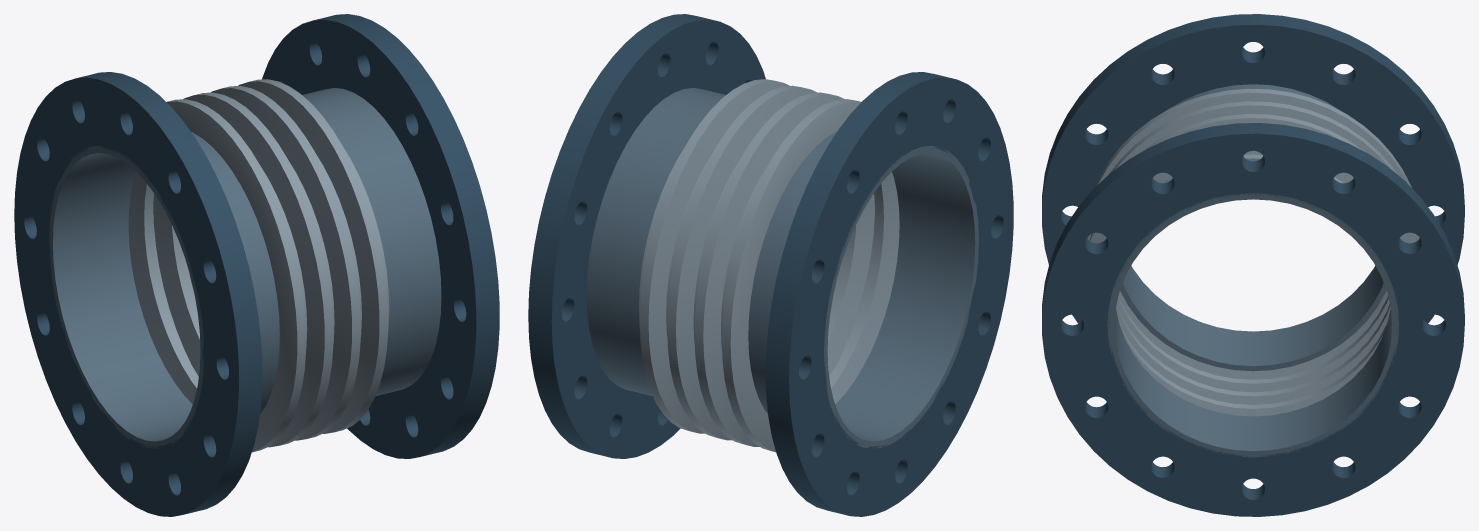
File: flan-dn250-L265-D273-f.glb
The picture shows the model from 3 angles, left to right: view 1: azimuth 30°, elevation 25°; view 2: azimuth 150°, elevation 25°; view 3: azimuth 270°, elevation 25°; orthographic projection. The views are drawn at different scales.
Visible parts, largest first — view 1: prokladka_silfon_1, homut_flanec_1, homut_flanec_2, patrubok_1, patrubok_2; view 2: prokladka_silfon_1, homut_flanec_1, homut_flanec_2, patrubok_1, patrubok_2; view 3: homut_flanec_2, homut_flanec_1, prokladka_silfon_1, patrubok_2, patrubok_1.
Part boxes in pixels (bbox=[...]): prokladka_silfon_1: bbox=[128, 79, 389, 452]; homut_flanec_1: bbox=[14, 72, 262, 516]; homut_flanec_2: bbox=[262, 14, 499, 458]; patrubok_1: bbox=[49, 132, 279, 448]; patrubok_2: bbox=[302, 88, 441, 395]; prokladka_silfon_1: bbox=[638, 79, 899, 452]; homut_flanec_1: bbox=[765, 72, 1013, 516]; homut_flanec_2: bbox=[528, 14, 765, 458]; patrubok_1: bbox=[748, 132, 978, 448]; patrubok_2: bbox=[586, 88, 725, 395]; homut_flanec_2: bbox=[1042, 123, 1464, 516]; homut_flanec_1: bbox=[1042, 14, 1464, 323]; prokladka_silfon_1: bbox=[1087, 88, 1419, 416]; patrubok_2: bbox=[1107, 158, 1399, 457]; patrubok_1: bbox=[1120, 84, 1386, 371].
Size of the model in its own units: 265 by 396 by 396.
